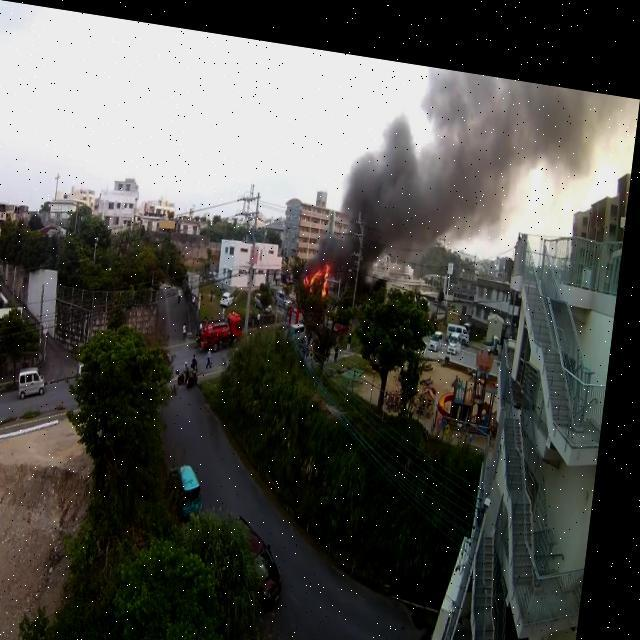Fire: (307, 248, 338, 284)
